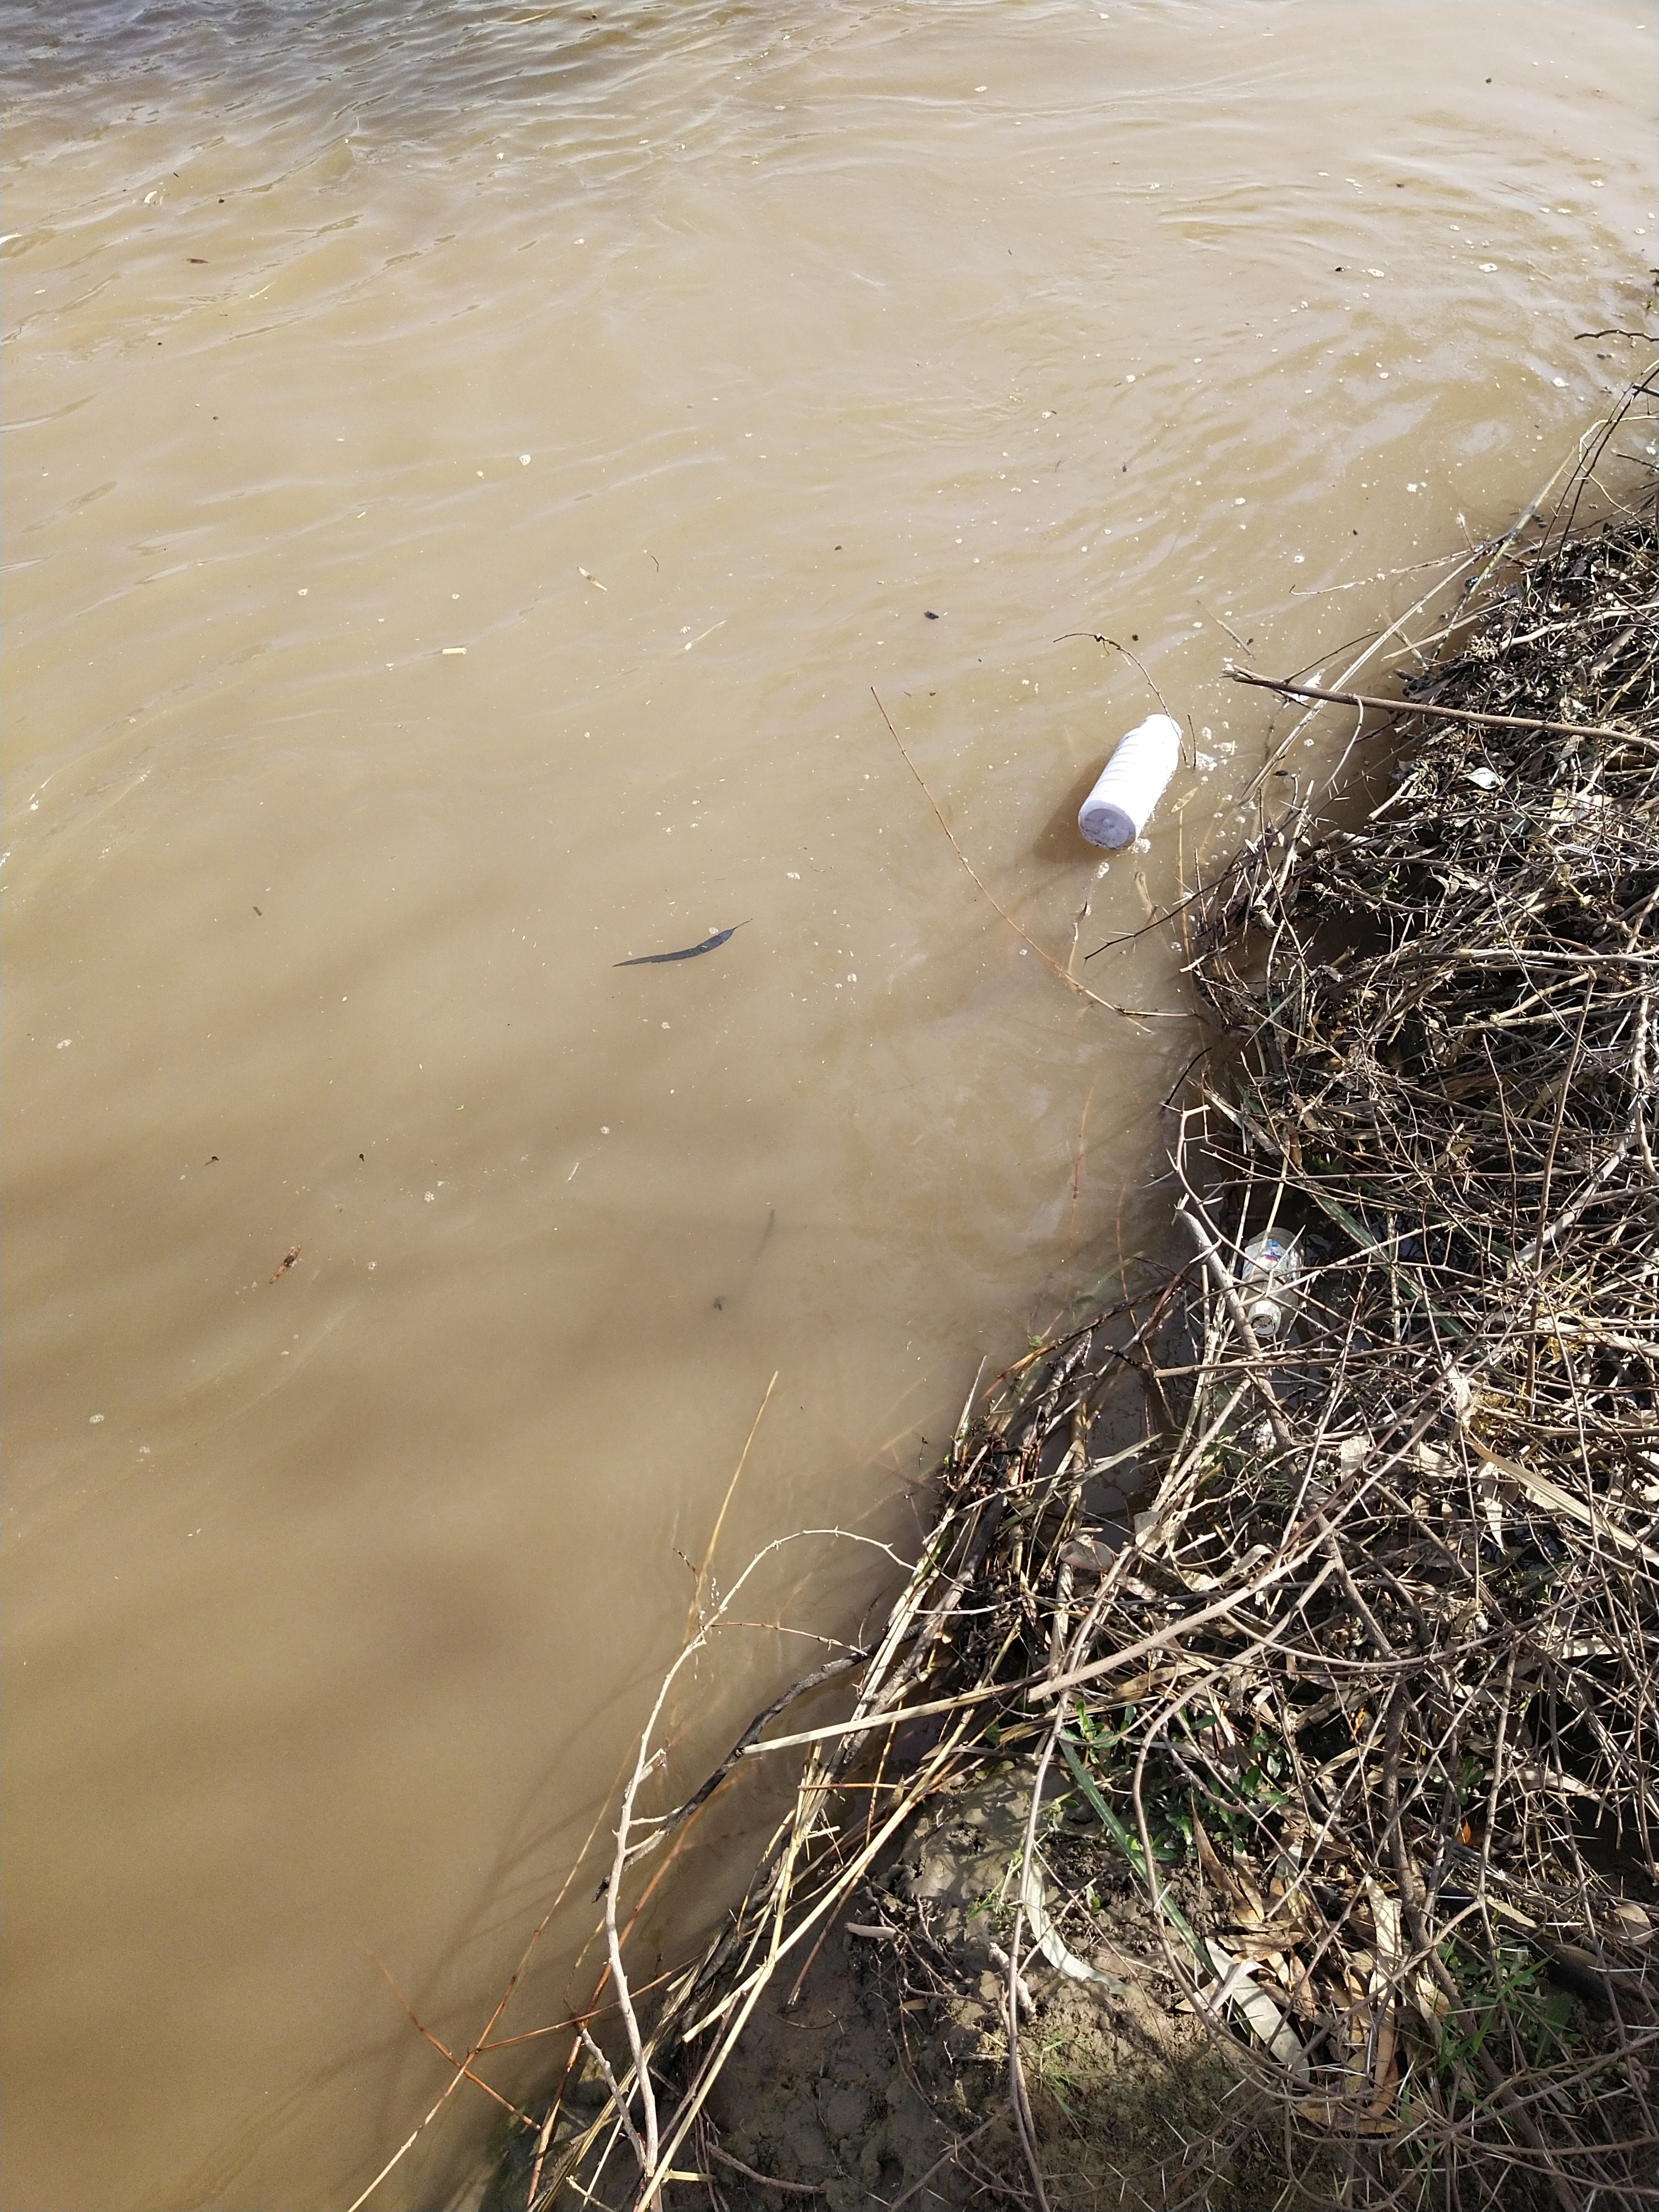Plastic Bottle: (1077, 714, 1182, 850), (1239, 1228, 1303, 1338)
